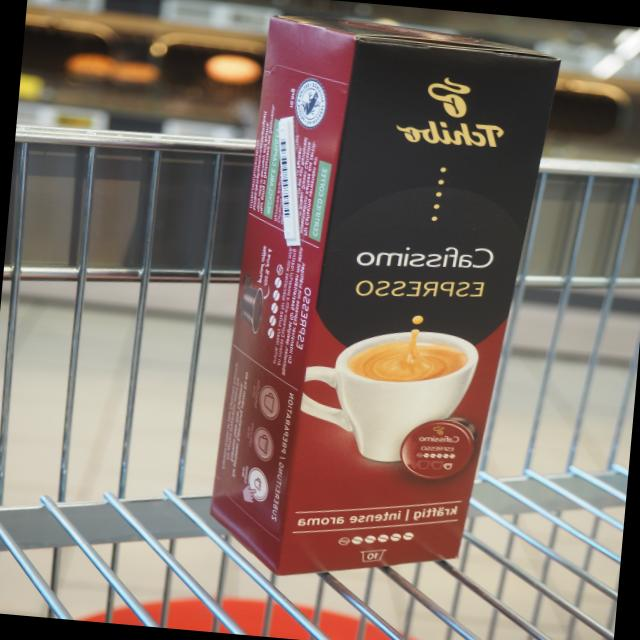Simo Es Kraft: (271, 33, 566, 577)
